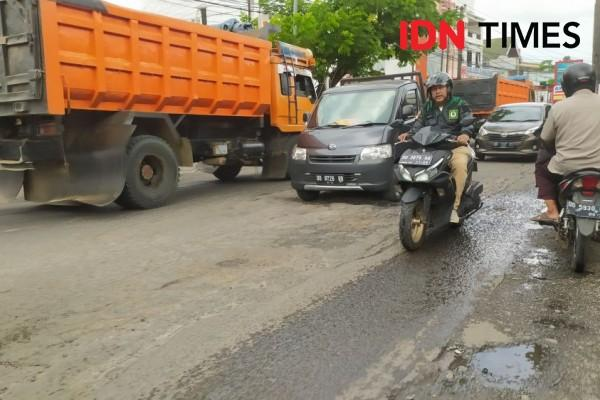Pothole: (467, 315, 600, 400), (508, 215, 557, 318)
